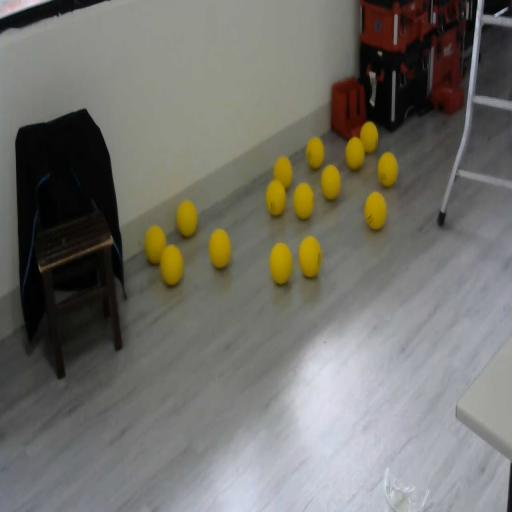FUEL: (268, 241, 294, 286), (298, 234, 323, 279), (159, 242, 184, 286), (208, 228, 232, 270), (143, 224, 167, 266), (176, 198, 198, 238), (364, 192, 387, 230), (293, 180, 314, 220), (320, 164, 342, 201), (345, 135, 365, 171), (378, 151, 398, 187), (305, 135, 325, 169), (274, 156, 293, 190), (360, 121, 378, 153)
